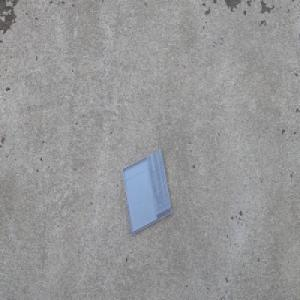PlasticPart: (120, 147, 172, 236)
